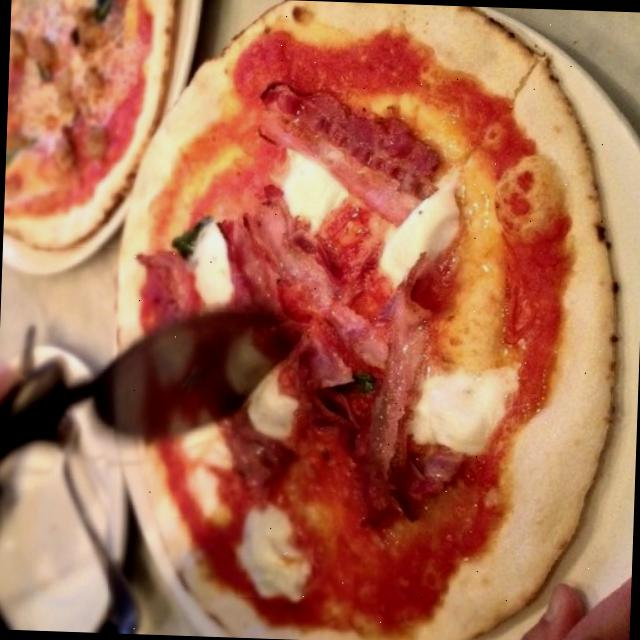cheese: (372, 168, 471, 286), (408, 353, 520, 455), (238, 498, 314, 598), (276, 144, 349, 234), (228, 344, 299, 435), (173, 412, 234, 517), (183, 213, 238, 311)
pizza: (117, 0, 615, 640), (3, 0, 176, 245)
